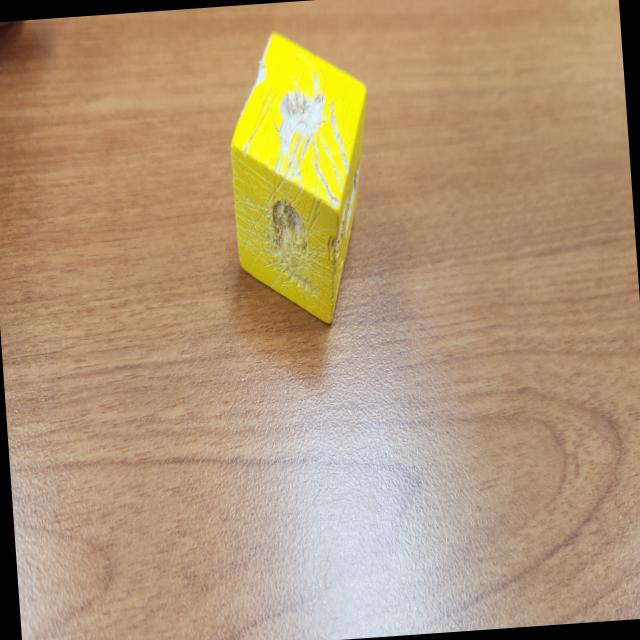broken: (223, 24, 383, 333)
